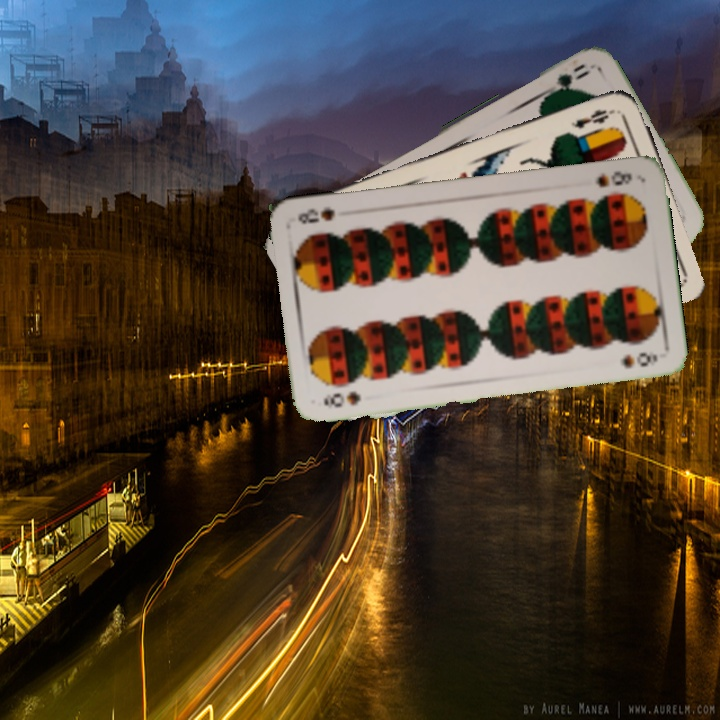EO: (567, 105, 618, 131)
GO: (537, 59, 593, 101)
S8: (319, 387, 364, 412), (592, 167, 635, 190)
